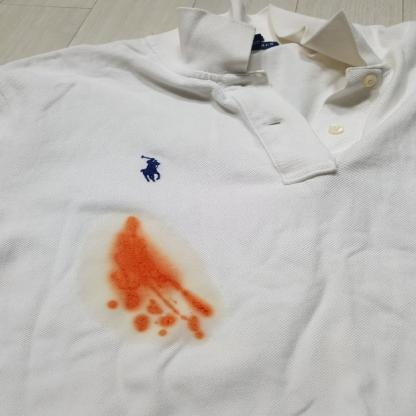kimchi: (80, 214, 215, 340), (110, 253, 179, 285), (112, 215, 154, 253), (181, 291, 222, 317), (185, 317, 210, 340), (144, 293, 165, 316), (119, 292, 140, 315), (130, 311, 150, 334), (155, 311, 176, 327), (105, 297, 115, 311), (154, 328, 166, 338)
